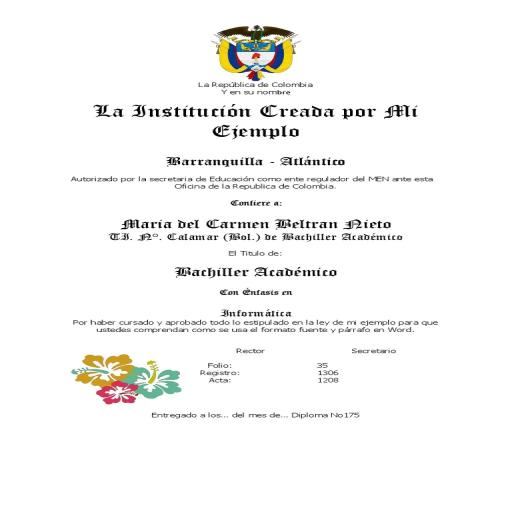bachillerato: (163, 261, 355, 290)
diploma: (0, 0, 511, 474)
institucion: (80, 94, 428, 140)
nombre: (88, 209, 402, 236)
